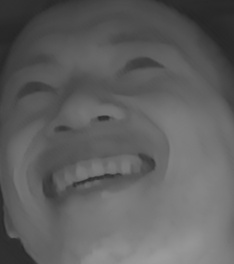eye: (9, 76, 57, 105), (118, 49, 166, 78)
mouth: (36, 144, 157, 210)
